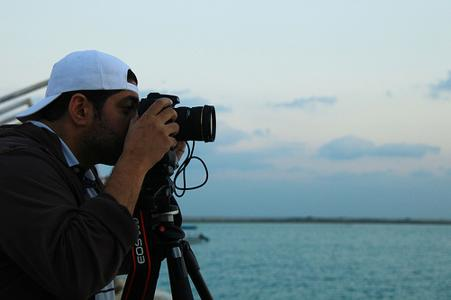person: (2, 50, 190, 300)
